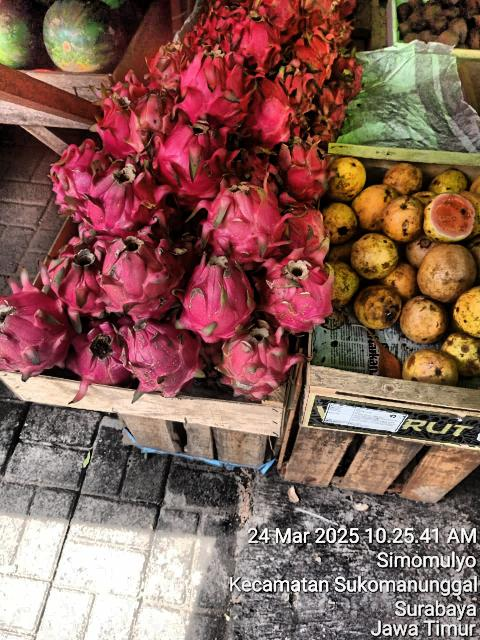buah-naga-matang: (0, 279, 78, 379), (218, 316, 298, 404), (195, 184, 287, 258), (180, 252, 256, 338), (82, 159, 170, 233), (154, 106, 228, 192), (122, 321, 208, 393), (262, 252, 332, 332), (186, 48, 254, 130), (100, 232, 174, 304), (62, 322, 132, 393), (264, 126, 324, 202), (49, 236, 107, 314), (48, 150, 106, 222), (278, 196, 336, 264), (248, 76, 300, 146), (96, 83, 142, 155), (124, 92, 174, 152), (222, 9, 272, 63), (286, 50, 328, 99), (142, 41, 179, 91), (304, 101, 338, 142)
